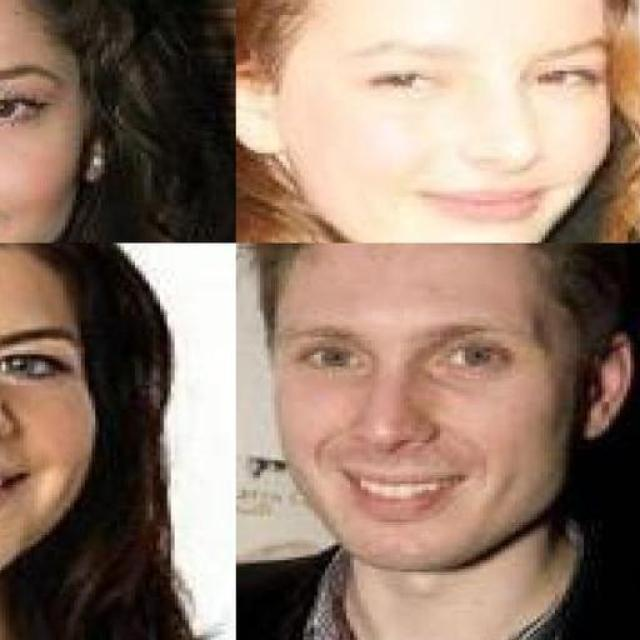bareface: (208, 242, 576, 538)
